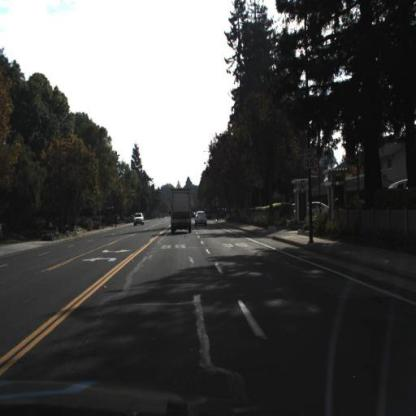car: (304, 199, 330, 222), (192, 207, 208, 227), (130, 208, 146, 223), (132, 211, 146, 228)
truck: (168, 187, 194, 236)
